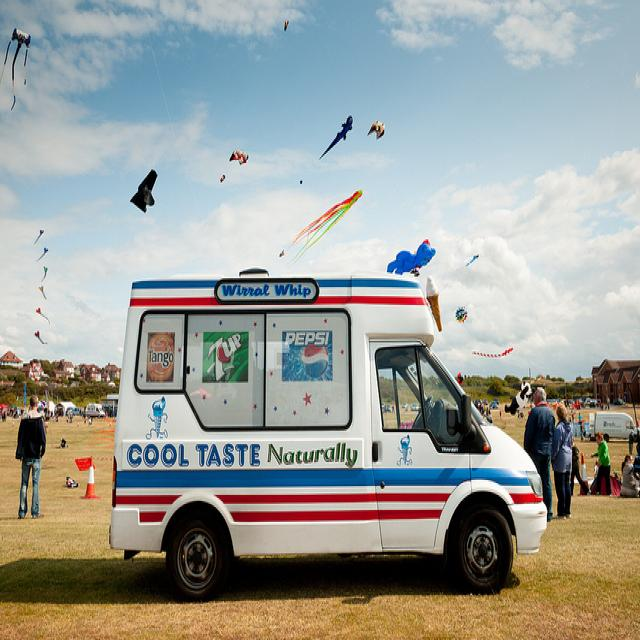Vehicle: (109, 264, 549, 604)
